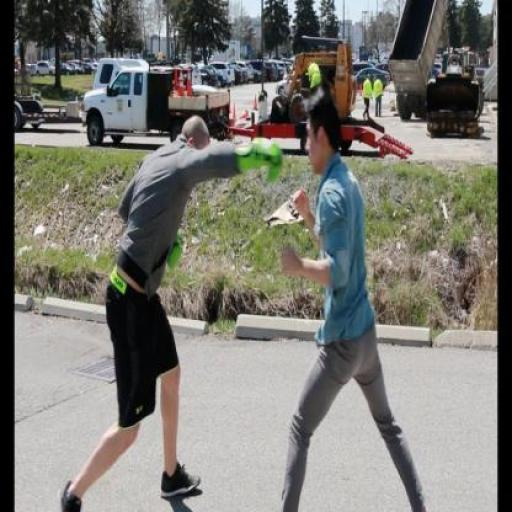Fighting: (66, 88, 426, 512)
